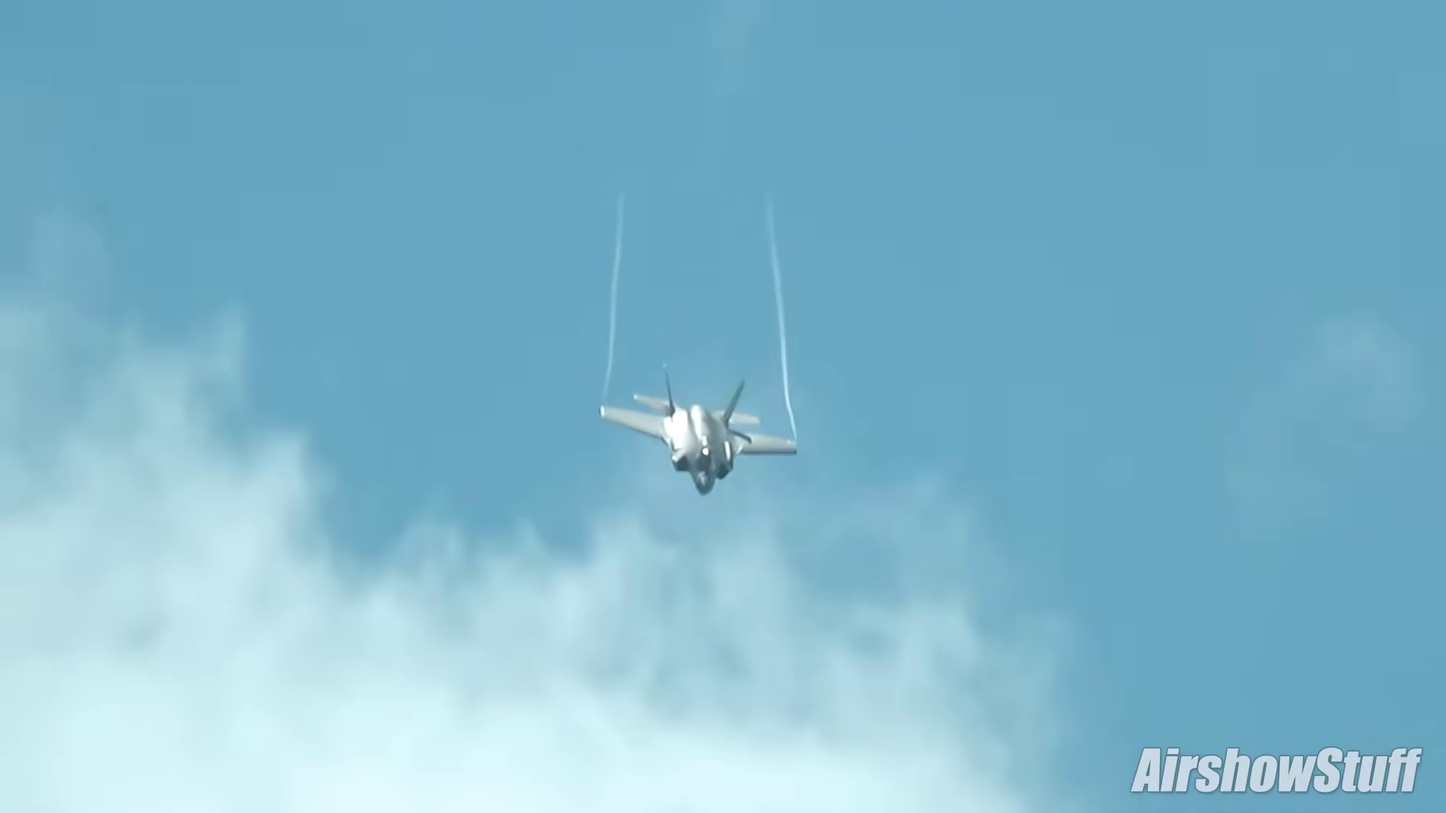F35: (597, 358, 803, 496)
